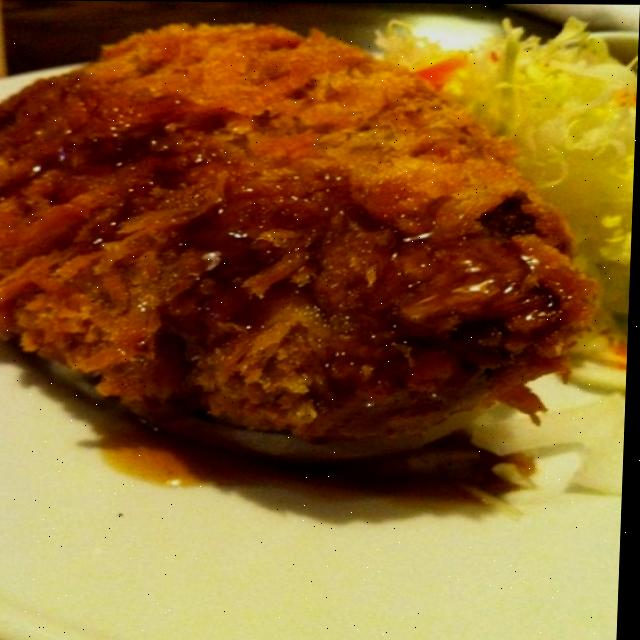炸货点心: (0, 15, 607, 483)
